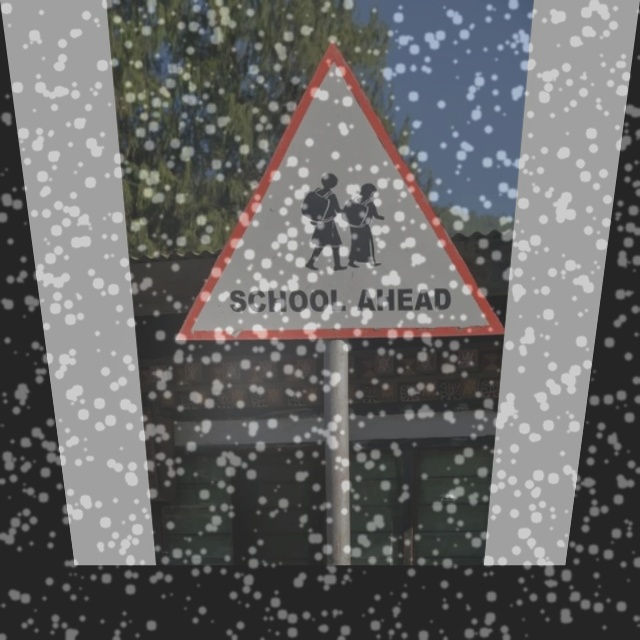School_Ahead: (181, 40, 520, 343)
